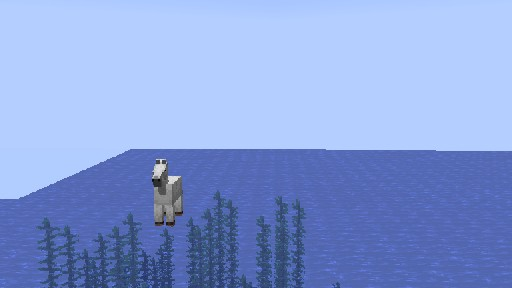horse: (151, 158, 183, 226)
